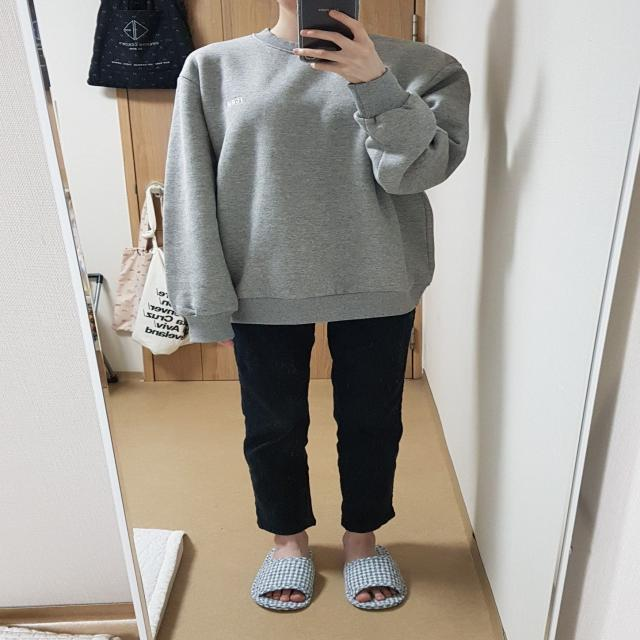denimpants: (229, 307, 414, 537)
longsleeve: (160, 20, 476, 343)
